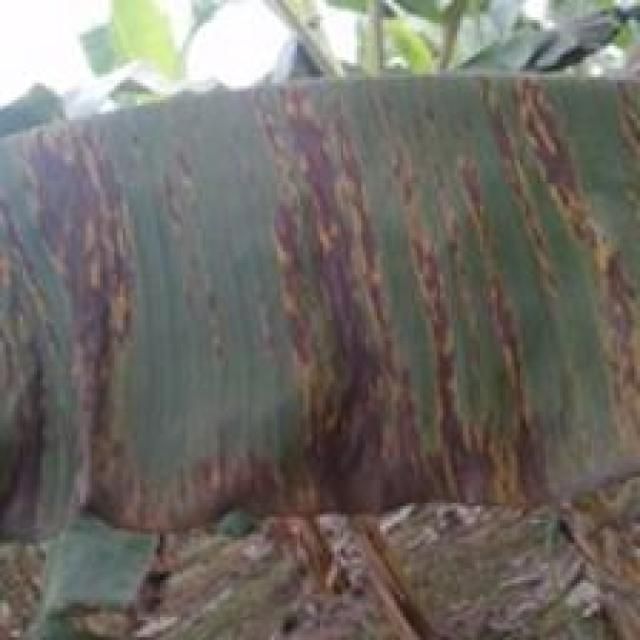Early_leaf_spot: (0, 68, 640, 518), (251, 63, 640, 506), (0, 114, 157, 520), (149, 111, 240, 381)
